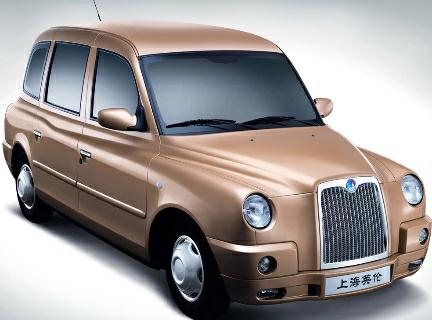吉利汽车-英伦TX4: (4, 10, 432, 316)
